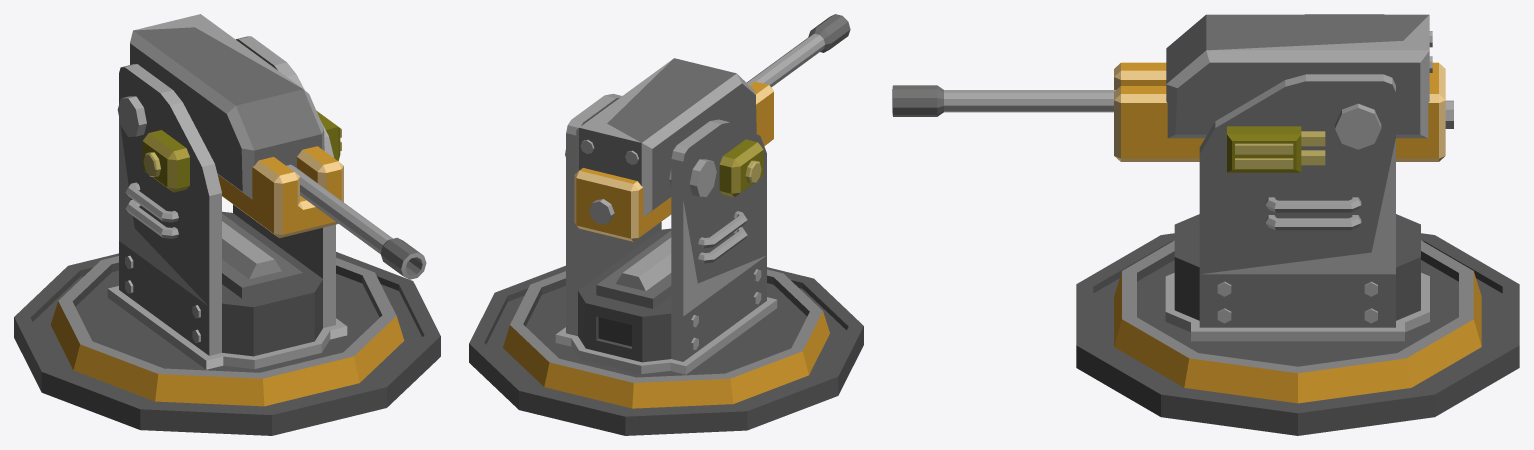
Rendered from tower_machinegun_yellow_1.fbx.
The picture shows the model from 3 angles, left to right: view 1: azimuth 30°, elevation 25°; view 2: azimuth 150°, elevation 25°; view 3: azimuth 270°, elevation 25°; orthographic projection. The views are drawn at different scales.
Parts seen in each view (by area): view 1: top_machinegun_yellow_1, tower_machinegun_yellow_1; view 2: top_machinegun_yellow_1, tower_machinegun_yellow_1; view 3: top_machinegun_yellow_1, tower_machinegun_yellow_1.
Boxes of the visible parts, x1=… form: top_machinegun_yellow_1: x1=50, y1=14, x2=426, y2=406; tower_machinegun_yellow_1: x1=14, y1=252, x2=440, y2=435; top_machinegun_yellow_1: x1=503, y1=14, x2=850, y2=408; tower_machinegun_yellow_1: x1=469, y1=265, x2=863, y2=435; top_machinegun_yellow_1: x1=892, y1=14, x2=1481, y2=403; tower_machinegun_yellow_1: x1=1076, y1=233, x2=1519, y2=435.
Size of the model in its own units: 156 by 113 by 210.
